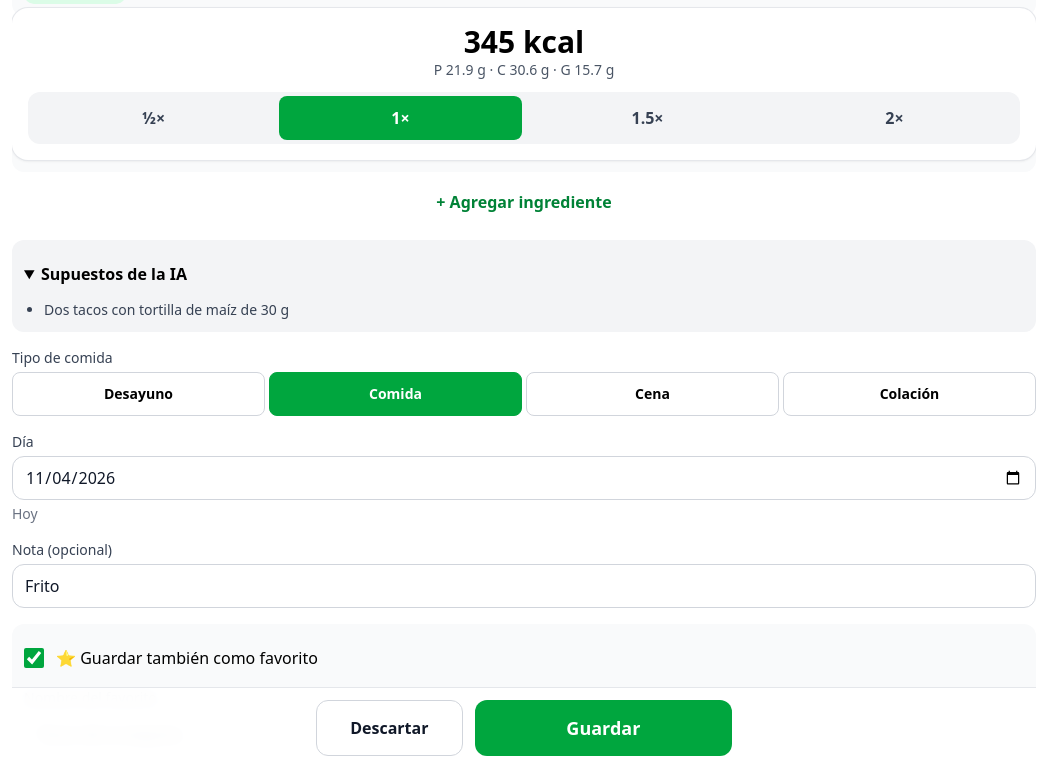
Test: Revisar › ⭐ también como favorito: POST /favorites tras guardar la comida, con el nombre editado
This screenshot has width=1048, height=768.
Earlier steps of the test are not shown.
(page scrolled)
Click the button "Guardar". click: (603, 728)
box: [475, 700, 732, 756]
(page scrolled)
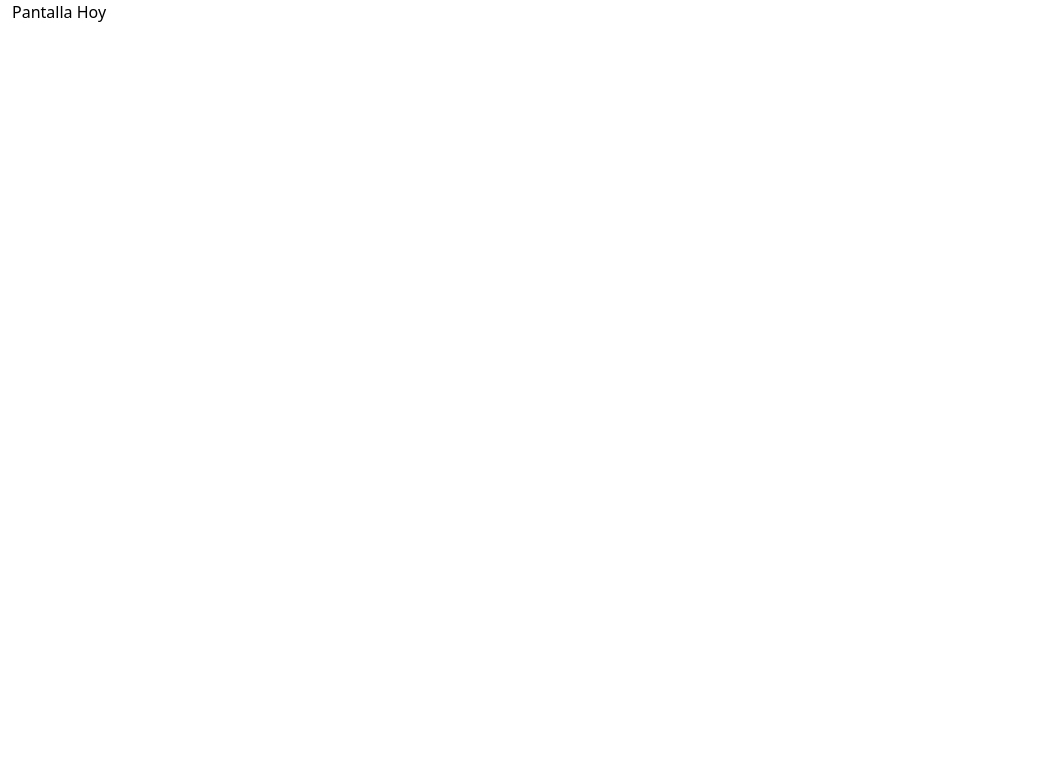
Now the text "Pantalla Hoy" is shown, box [12, 1, 106, 23]
